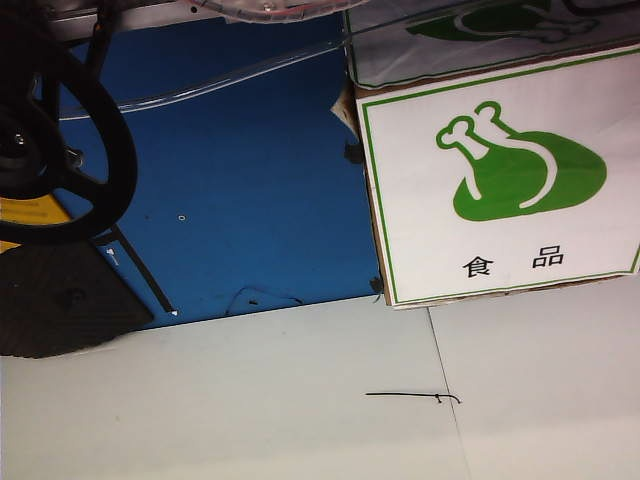Cube_food: (428, 91, 614, 282)
